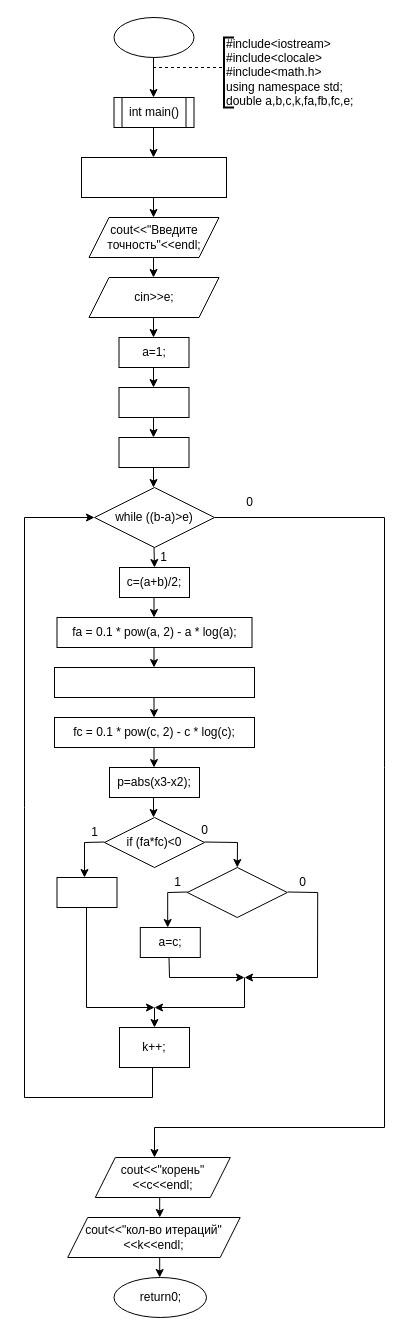
Some shapes in this 410 by 1335 pixel diagram are drawn without their labels. Here are the shapes that lost their labels. From the top down, the box of each, then its label:
(113, 16, 194, 58): Начало
(80, 156, 226, 198): setlocale(LC_ALL"'RUS";
(118, 386, 189, 418): b=2;
(118, 436, 189, 468): k=0;
(54, 666, 254, 698): fb = 0.1 * pow(b, 2) - b * log(b);
(56, 876, 117, 908): b=c;
(186, 866, 287, 918): if (fc*fb)<0
